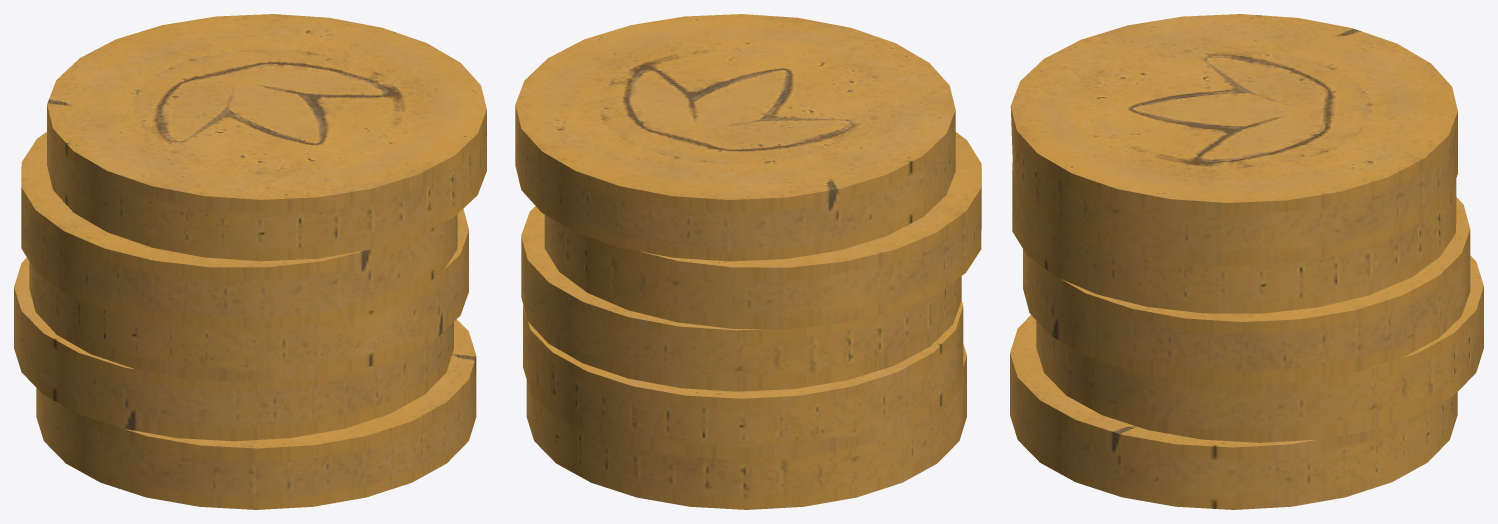
File: SM_Potion_Props_Loot_Coin_01_C.fbx
3 views of the same model, side by side, from view 1: azimuth 30°, elevation 25°; view 2: azimuth 150°, elevation 25°; view 3: azimuth 270°, elevation 25° (orthographic).
Visible parts, largest first — view 1: SM_Potion_Props_Loot_Coin_01_C_LOD0; view 2: SM_Potion_Props_Loot_Coin_01_C_LOD0; view 3: SM_Potion_Props_Loot_Coin_01_C_LOD0.
Boxes of the visible parts, x1,y1,x2,y2 form: SM_Potion_Props_Loot_Coin_01_C_LOD0: (14, 14, 486, 509); SM_Potion_Props_Loot_Coin_01_C_LOD0: (515, 14, 981, 509); SM_Potion_Props_Loot_Coin_01_C_LOD0: (1010, 14, 1483, 509).
Size of what is drawn, in the model's own units: 6.46 by 4.66 by 6.41.
